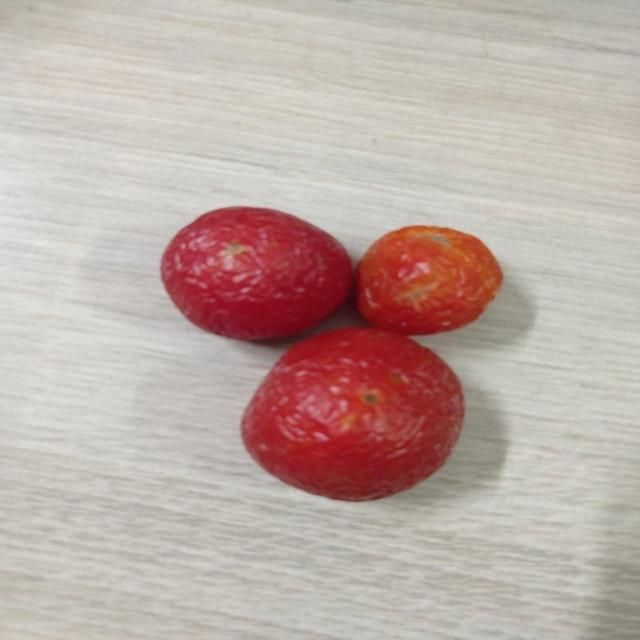overripe: (239, 325, 467, 502), (158, 202, 353, 340), (356, 219, 502, 325)
